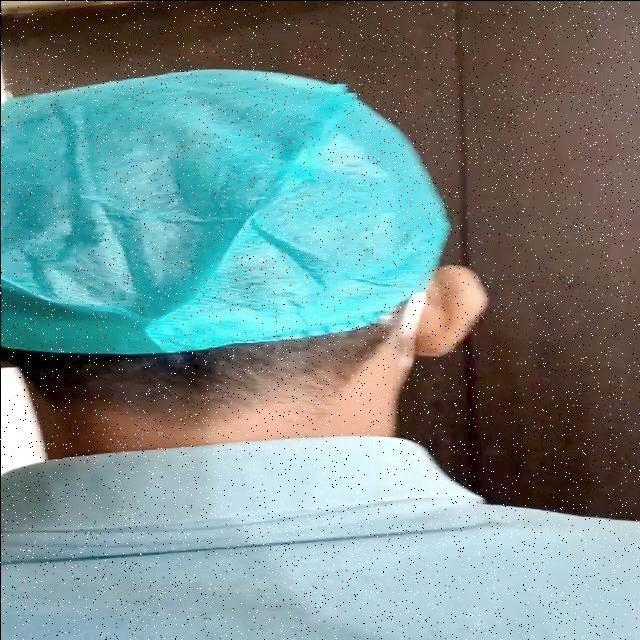gloves: (4, 90, 467, 384)
